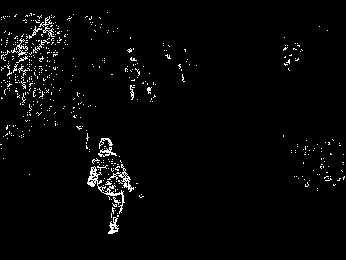person: (84, 135, 142, 236), (124, 56, 139, 101)
